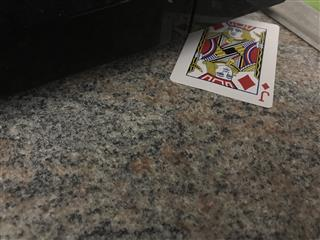JackOfDiamonds: (169, 16, 279, 108)
